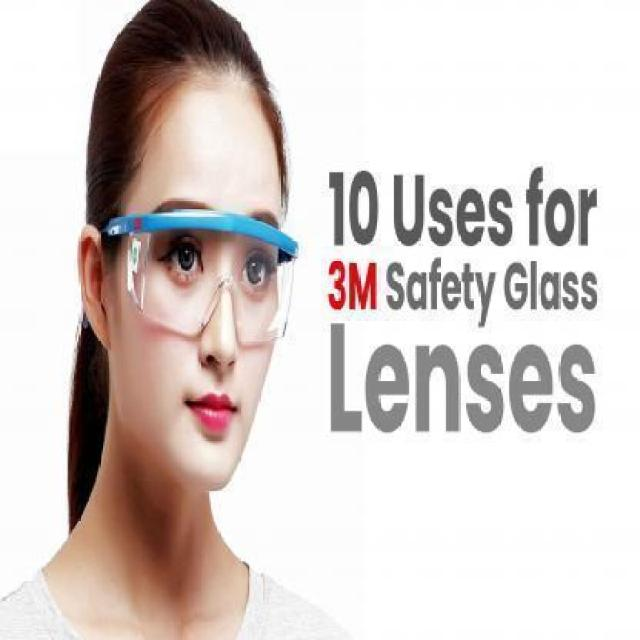face_nomask: (142, 211, 283, 454)
glasses: (95, 206, 298, 354)
head_nohelmet: (76, 0, 290, 154)
